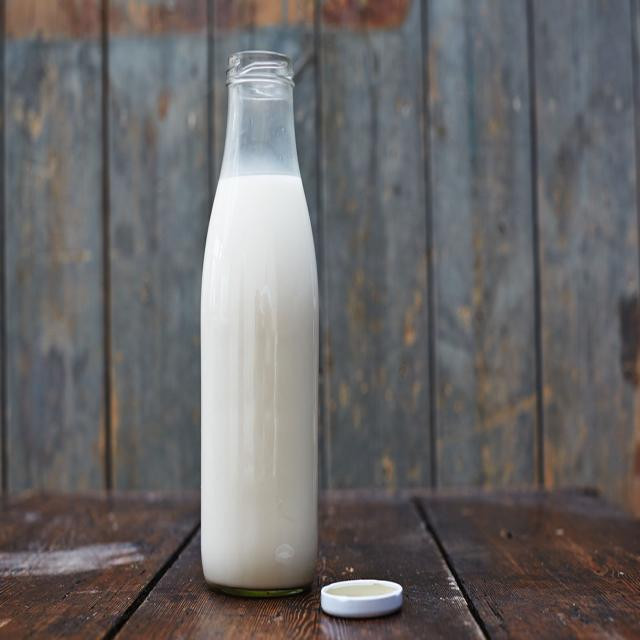Milk carton/jug: (197, 171, 324, 595)
